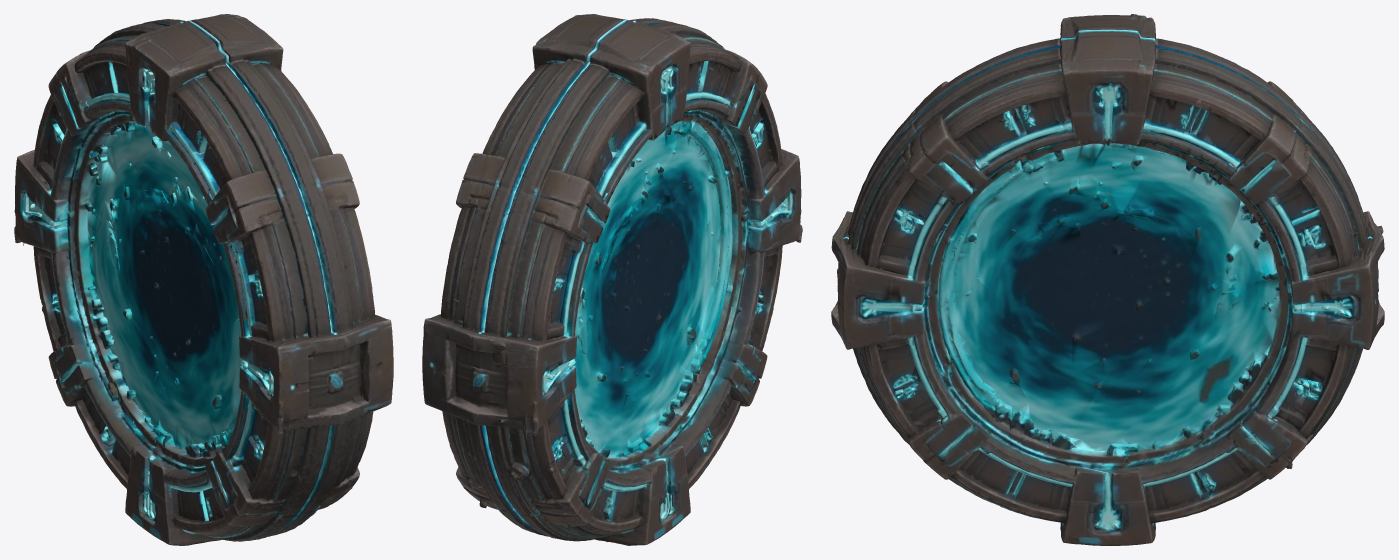
The model's file is portal-optimized.glb.
3 views of the same model, side by side, from view 1: azimuth 30°, elevation 25°; view 2: azimuth 150°, elevation 25°; view 3: azimuth 270°, elevation 25° (orthographic).
Parts seen in each view (by area): view 1: tripo_node_60162354-1df9-4534-b058-596d46d4063a; view 2: tripo_node_60162354-1df9-4534-b058-596d46d4063a; view 3: tripo_node_60162354-1df9-4534-b058-596d46d4063a.
Boxes of the visible parts, left/top/right/bottom form: tripo_node_60162354-1df9-4534-b058-596d46d4063a: left=14, top=14, right=393, bottom=545; tripo_node_60162354-1df9-4534-b058-596d46d4063a: left=422, top=14, right=802, bottom=545; tripo_node_60162354-1df9-4534-b058-596d46d4063a: left=831, top=14, right=1384, bottom=545.
Size of the model in its own units: 0.2488 by 1 by 0.9999.
Materials: 1 (1 with a texture image).
